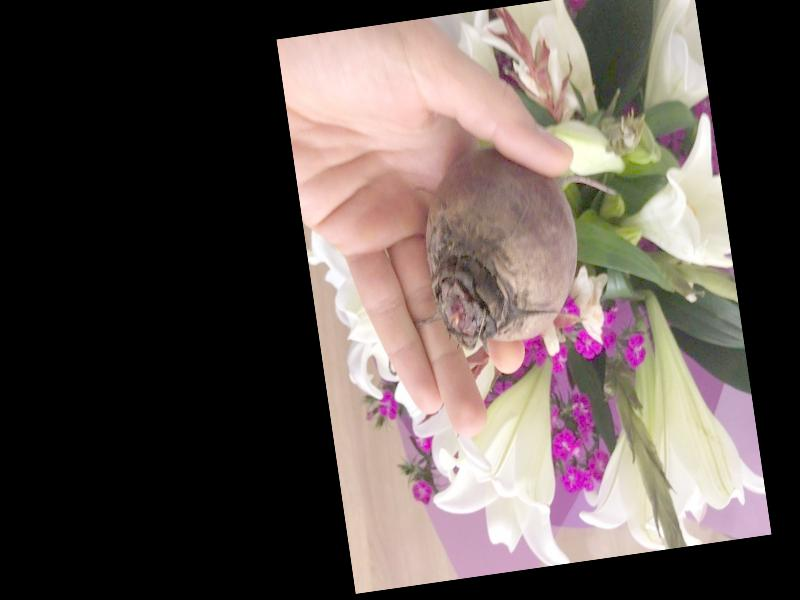Beet: (412, 131, 636, 352)
